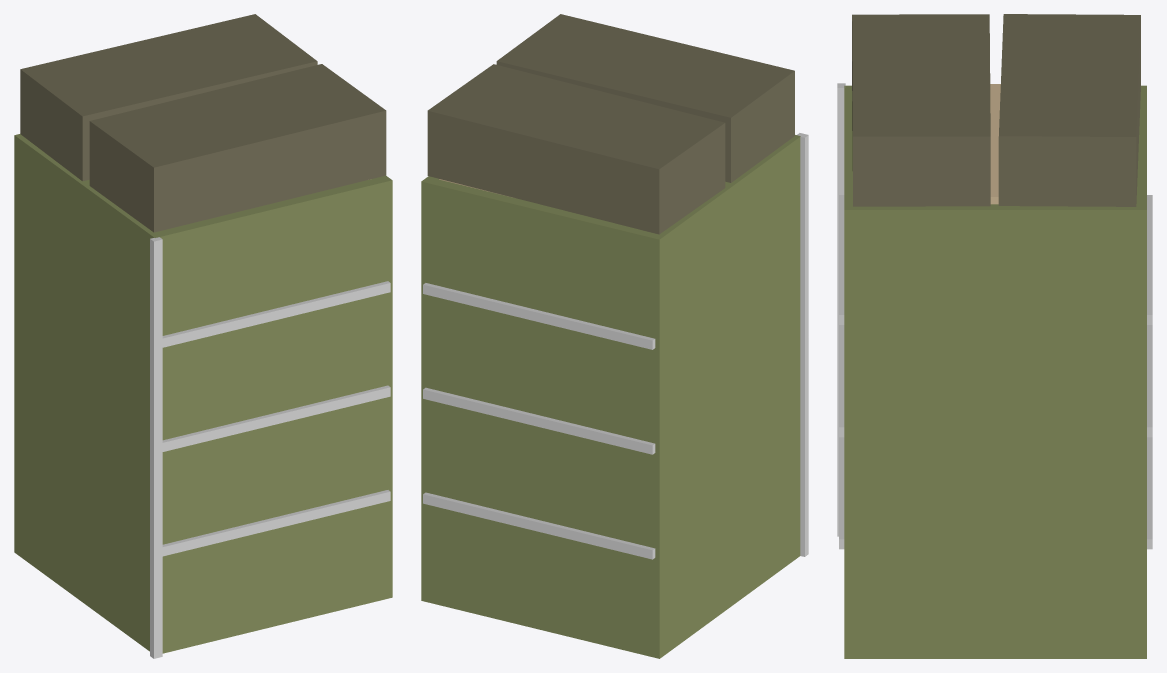
The model's file is SM_HescoCorto1_v3_RemateSacos_e0_Sano_LOD0.fbx.
The picture shows the model from 3 angles, left to right: view 1: azimuth 30°, elevation 25°; view 2: azimuth 150°, elevation 25°; view 3: azimuth 270°, elevation 25°; orthographic projection. The views are drawn at different scales.
Visible parts, largest first — view 1: SM_hesco_piezas_v52_LOD0; view 2: SM_hesco_piezas_v52_LOD0; view 3: SM_hesco_piezas_v52_LOD0.
Boxes of the visible parts, x1,y1,x2,y2 form: SM_hesco_piezas_v52_LOD0: (14,14,392,658); SM_hesco_piezas_v52_LOD0: (421,14,808,658); SM_hesco_piezas_v52_LOD0: (837,14,1152,658).
Size of the model in its own units: 1.09 by 2.09 by 1.14.
